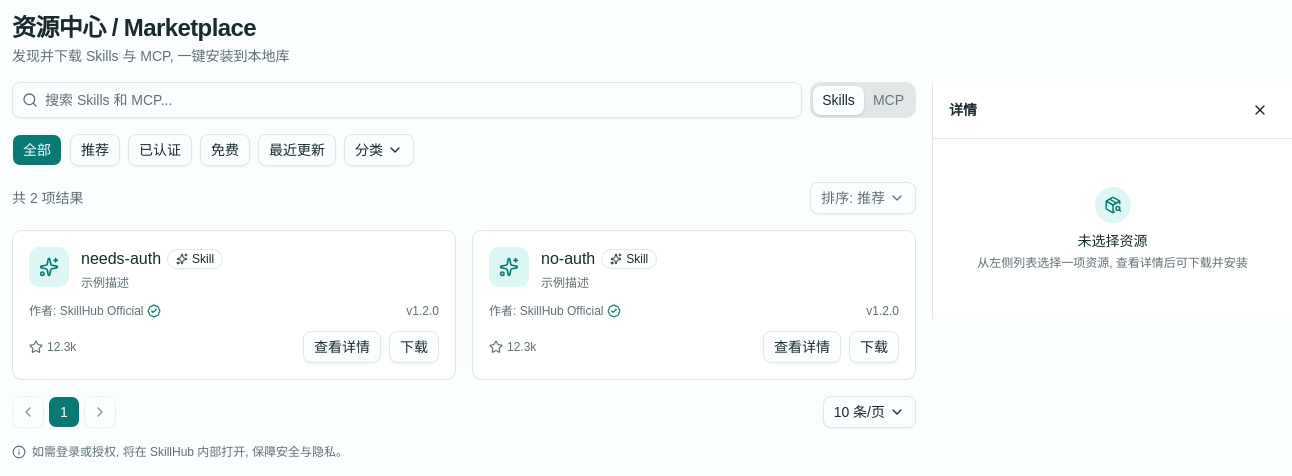
Test: Marketplace 页面 › 已认证/免费筛选 chip 应在当页数据上客户端过滤
This screenshot has width=1292, height=476.
Expected: the heading "needs-auth" is shown, [81,247,161,271]
Click the button "已认证".
click(160, 150)  # box [128,134,192,166]
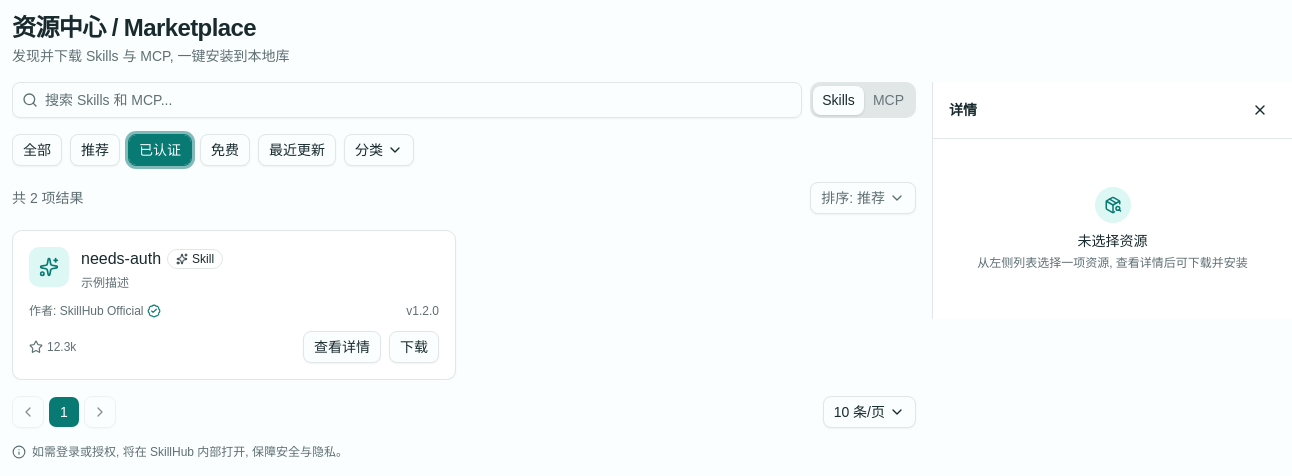
Expected: the heading "needs-auth" is shown, [81,247,161,271]
Result: the heading "no-auth" is gone
Click the button "免费".
click(225, 150)  # box [200,134,250,166]
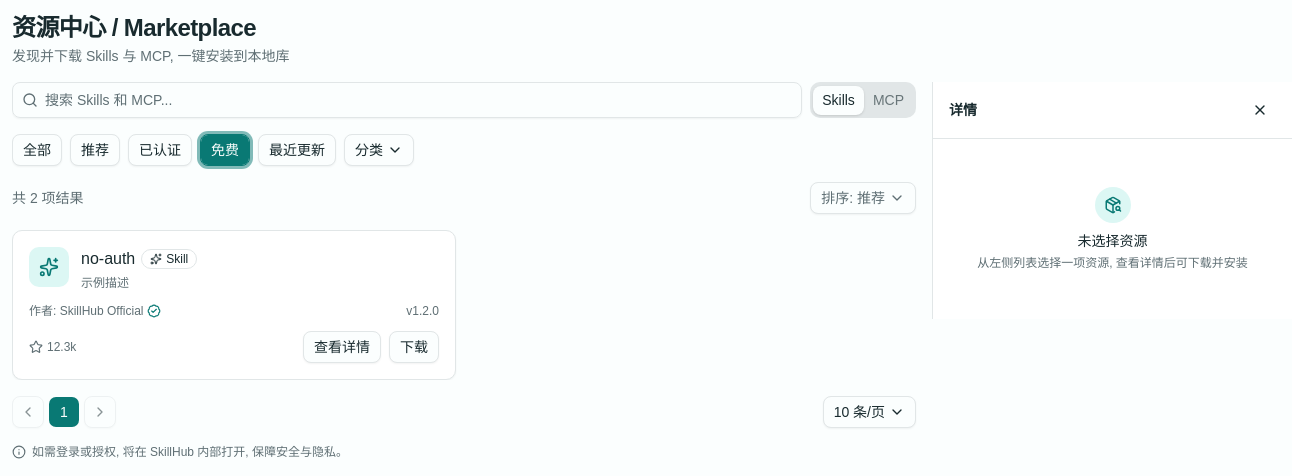
Result: the heading "needs-auth" is gone
Result: the heading "no-auth" is shown at [81,247,135,271]
